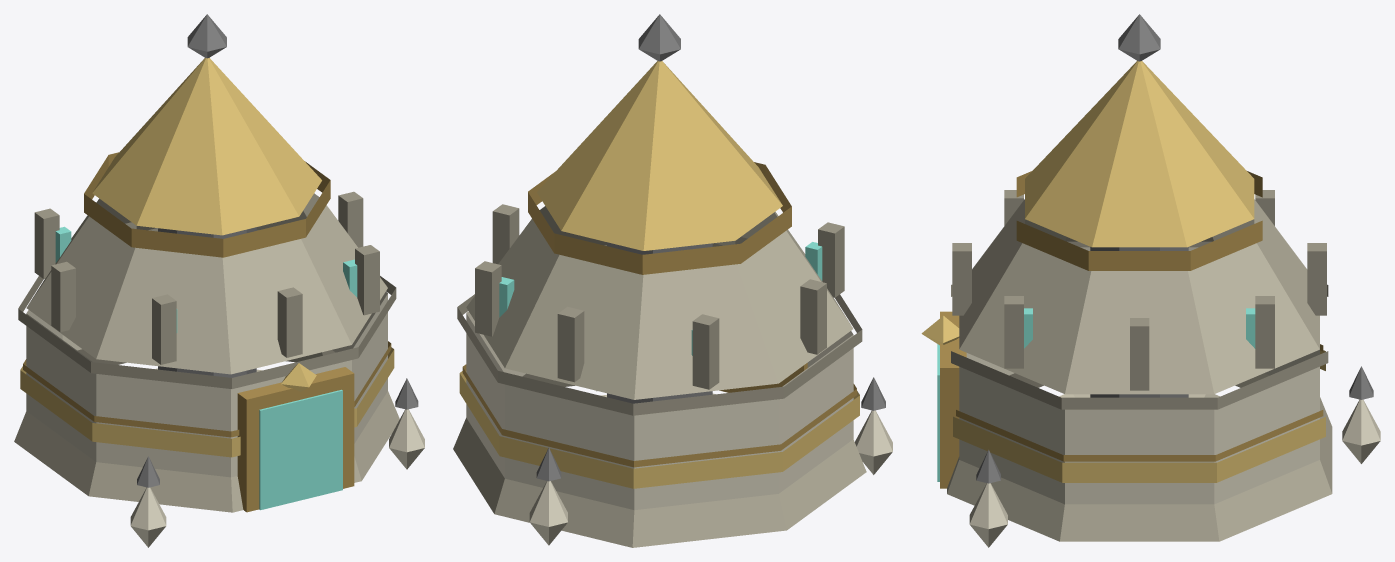
Rendered from barracks-astro.obj.
3 renders of one model, left to right at view 1: azimuth 30°, elevation 25°; view 2: azimuth 150°, elevation 25°; view 3: azimuth 270°, elevation 25°, orthographic. The views are drawn at different scales.
Parts seen in each view (by area): view 1: barracks-astro; view 2: barracks-astro; view 3: barracks-astro.
Part boxes in pixels (x1,y1,x2,y2): barracks-astro: (14, 14, 424, 547); barracks-astro: (453, 14, 892, 547); barracks-astro: (921, 14, 1380, 547).
Size of the model in its own units: 8.68 by 12.25 by 10.35.
